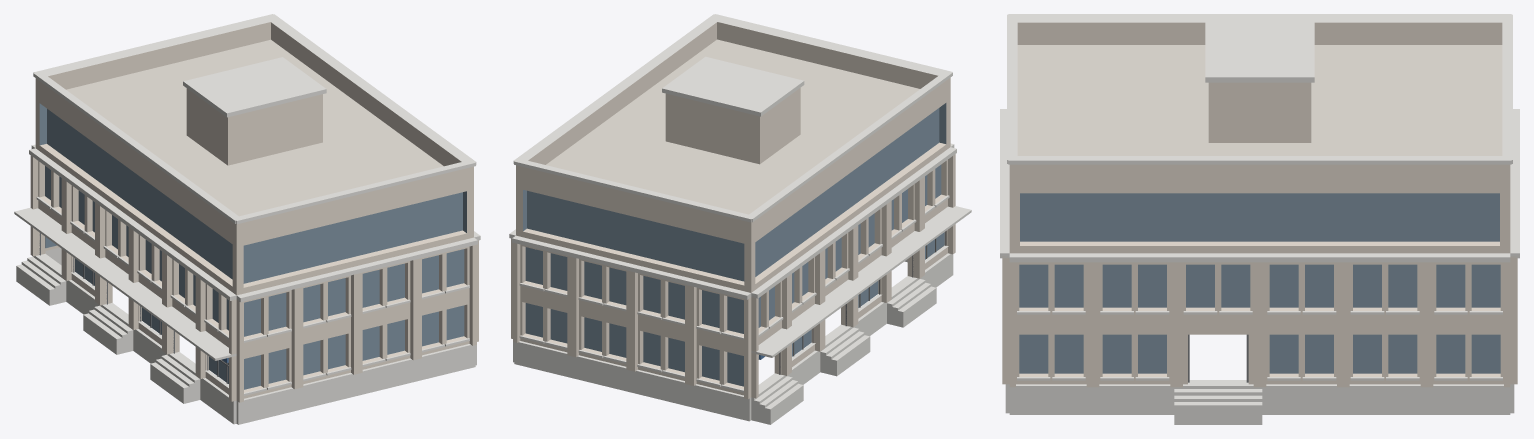
The model's file is Shopping_Medical_3.fbx.
The picture shows the model from 3 angles, left to right: view 1: azimuth 30°, elevation 25°; view 2: azimuth 150°, elevation 25°; view 3: azimuth 270°, elevation 25°; orthographic projection. The views are drawn at different scales.
Parts seen in each view (by area): view 1: Shopping_Medical_3; view 2: Shopping_Medical_3; view 3: Shopping_Medical_3.
Part boxes in pixels (x1,y1,x2,y2): Shopping_Medical_3: (14, 14, 480, 424); Shopping_Medical_3: (509, 14, 971, 424); Shopping_Medical_3: (1000, 14, 1519, 424).
Bounding box in the file's own units: 17.58 × 14.25 × 22.84.
